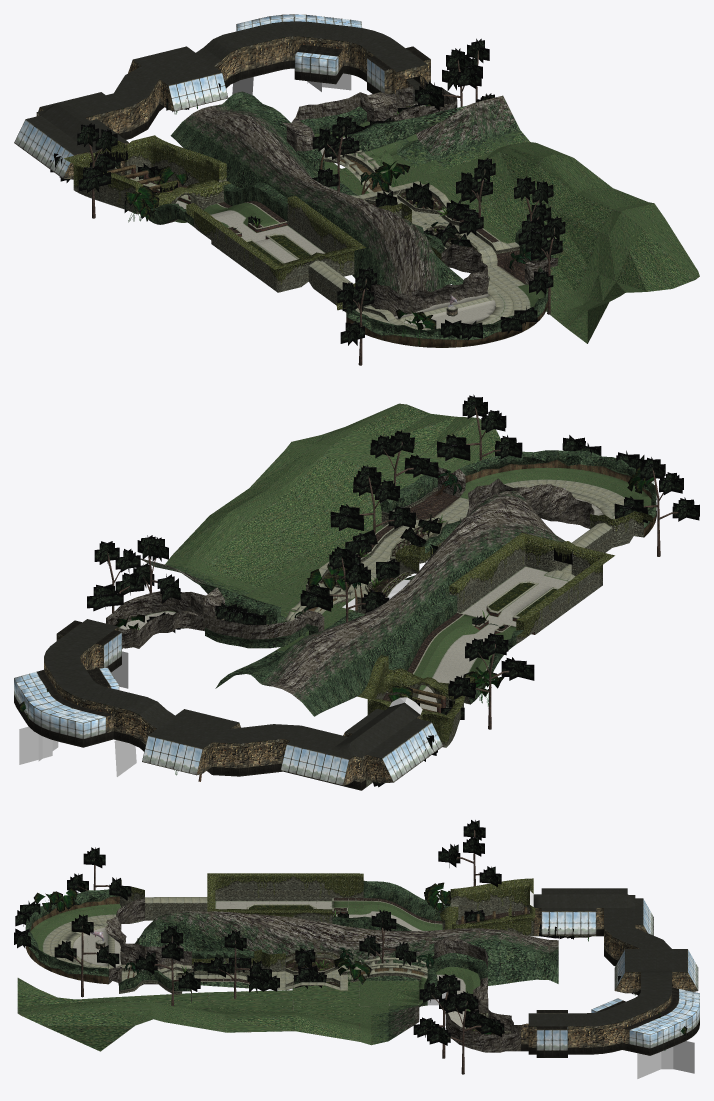
Rendered from garden.glb.
3 renders of one model, top to bottom at view 1: azimuth 30°, elevation 25°; view 2: azimuth 150°, elevation 25°; view 3: azimuth 270°, elevation 25°, orthographic. The views are drawn at different scales.
Visible parts, largest first — view 1: 4x4.prm.002, 4x4.prm.001, 4x4.prm.007, 4x4.prm.004, 4x4.prm.008, 4x4.prm.006, 4x4.prm.009, 4x4.prm.003, 4x4.prm.010, 4x4.prm.011; view 2: 4x4.prm.002, 4x4.prm.007, 4x4.prm.001, 4x4.prm.008, 4x4.prm.006, 4x4.prm.004, 4x4.prm.009, 4x4.prm.003, 4x4.prm.010, 4x4.prm.011; view 3: 4x4.prm.002, 4x4.prm.001, 4x4.prm.007, 4x4.prm.004, 4x4.prm.006, 4x4.prm.008, 4x4.prm.009, 4x4.prm.003, 4x4.prm.010, 4x4.prm.011.
Part boxes in pixels (left/top/right/bottom): 4x4.prm.002: left=88, top=50, right=699, bottom=365; 4x4.prm.001: left=26, top=21, right=529, bottom=316; 4x4.prm.007: left=50, top=38, right=565, bottom=345; 4x4.prm.004: left=64, top=135, right=529, bottom=320; 4x4.prm.008: left=193, top=78, right=558, bottom=316; 4x4.prm.006: left=114, top=91, right=553, bottom=339; 4x4.prm.009: left=14, top=14, right=529, bottom=178; 4x4.prm.003: left=123, top=103, right=530, bottom=330; 4x4.prm.010: left=36, top=36, right=430, bottom=179; 4x4.prm.011: left=232, top=73, right=351, bottom=94; 4x4.prm.002: left=105, top=403, right=686, bottom=729; 4x4.prm.007: left=18, top=394, right=699, bottom=787; 4x4.prm.001: left=44, top=475, right=565, bottom=781; 4x4.prm.008: left=106, top=467, right=594, bottom=693; 4x4.prm.006: left=177, top=450, right=656, bottom=783; 4x4.prm.004: left=122, top=487, right=653, bottom=786; 4x4.prm.009: left=14, top=564, right=443, bottom=790; 4x4.prm.003: left=119, top=479, right=624, bottom=773; 4x4.prm.010: left=44, top=627, right=420, bottom=785; 4x4.prm.011: left=19, top=579, right=422, bottom=776; 4x4.prm.002: left=17, top=830, right=527, bottom=1074; 4x4.prm.001: left=95, top=888, right=687, bottom=1040; 4x4.prm.007: left=14, top=820, right=687, bottom=1050; 4x4.prm.004: left=119, top=873, right=596, bottom=1028; 4x4.prm.006: left=25, top=880, right=594, bottom=1034; 4x4.prm.008: left=105, top=899, right=558, bottom=1052; 4x4.prm.009: left=371, top=899, right=699, bottom=1057; 4x4.prm.003: left=42, top=897, right=529, bottom=1028; 4x4.prm.010: left=521, top=908, right=697, bottom=1047; 4x4.prm.011: left=269, top=890, right=694, bottom=1078.
Bounding box in the file's own units: 173 × 51.75 × 281.
11 materials, 10 textured.
